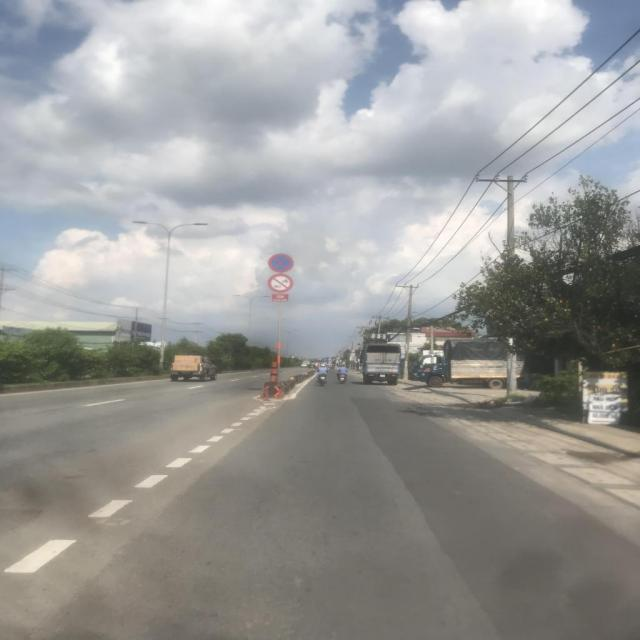cam_dung_xe_va_do_xe: (268, 253, 294, 272)
cam_o_to_tai_va_xe_khach: (351, 349, 356, 353)
cam_xe_2_banh_va_xe_3_banh_co_dong_co: (268, 274, 294, 293)
khac: (349, 356, 356, 361), (350, 353, 356, 357)
